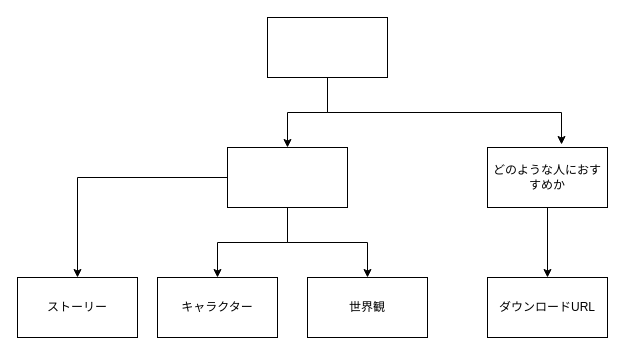
Some shapes in this 625 by 355 pixel diagram are drawn without their labels. The shapes that lost their labels are listed below. From the top down, each one's centre as x and y in pixels, then its label:
the point at 327,47: 原神サイト
the point at 287,177: どういうゲームか
